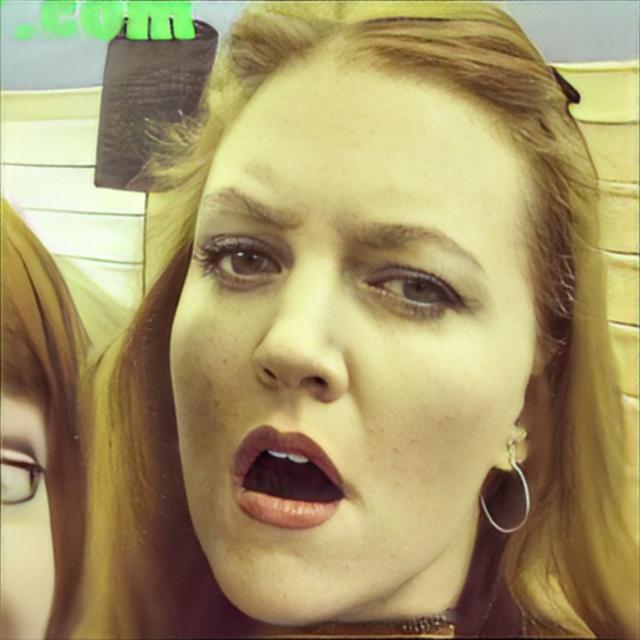disgust: (166, 34, 540, 626)
